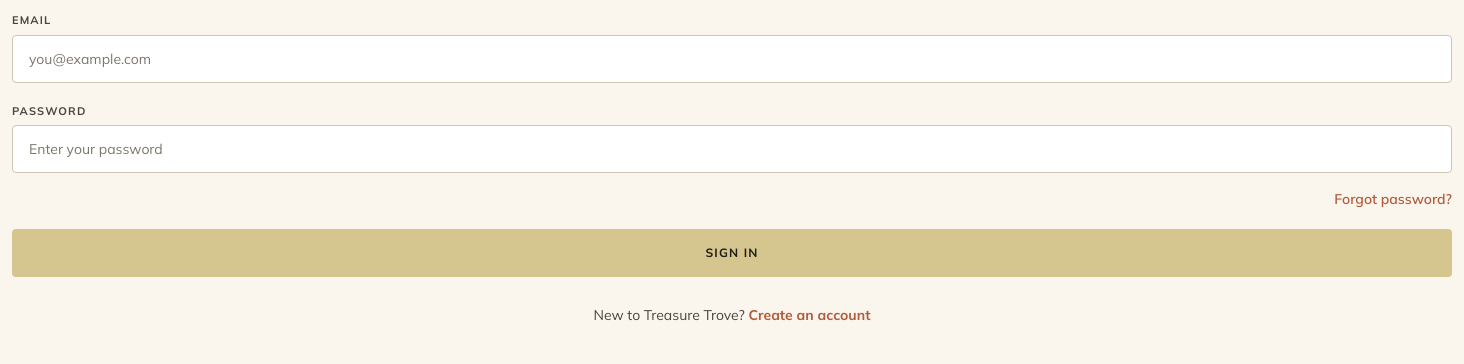
Test case: LoginForm › shows an email format error for an invalid email
The image size is (1464, 364).
Type "not-an-email" into the field with test id "login-email-input".
click(732, 58); type("not-an-email")  # box [12,34,1452,82]
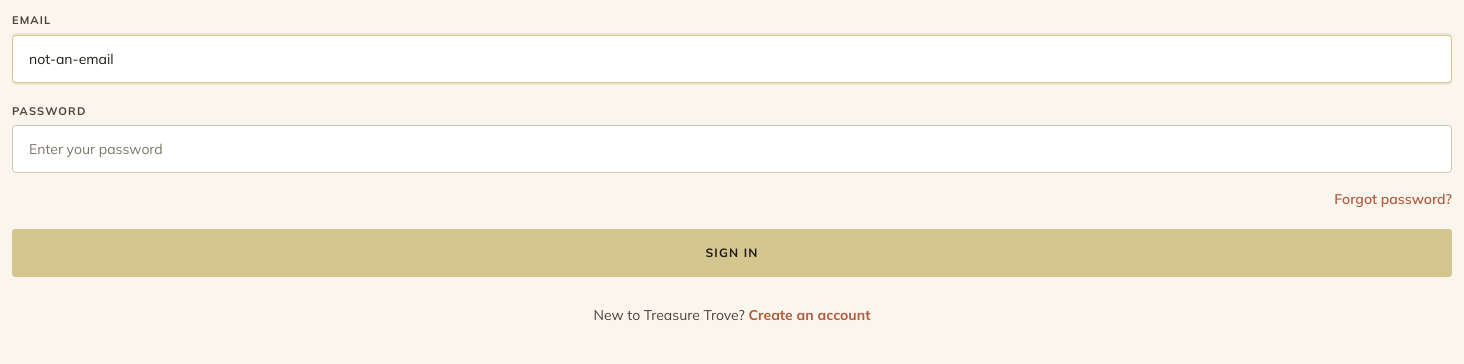
Type "password123" into the password field with test id "login-password-input".
click(732, 149); type("password123")  # box [12,125,1452,173]
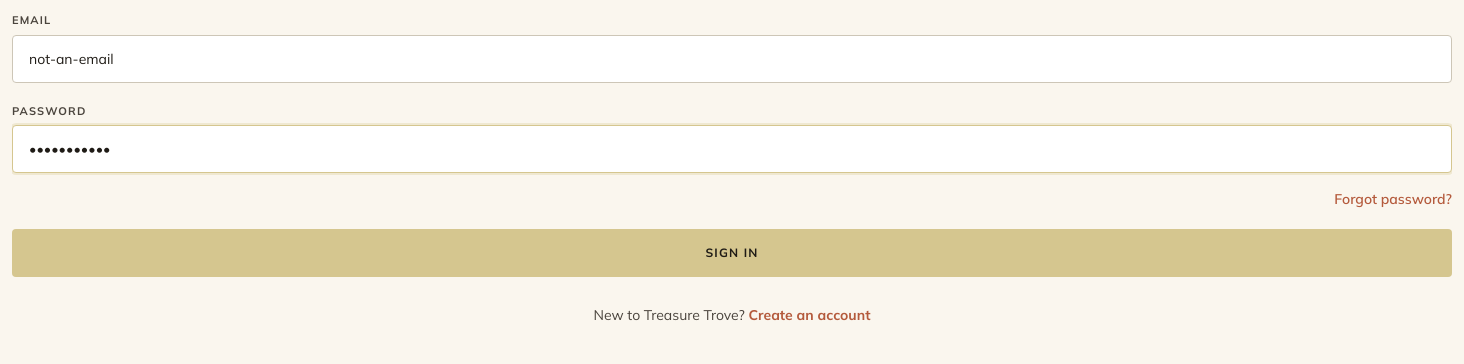
Click the button with test id "login-submit-button".
click(732, 253)  # box [12,229,1452,277]
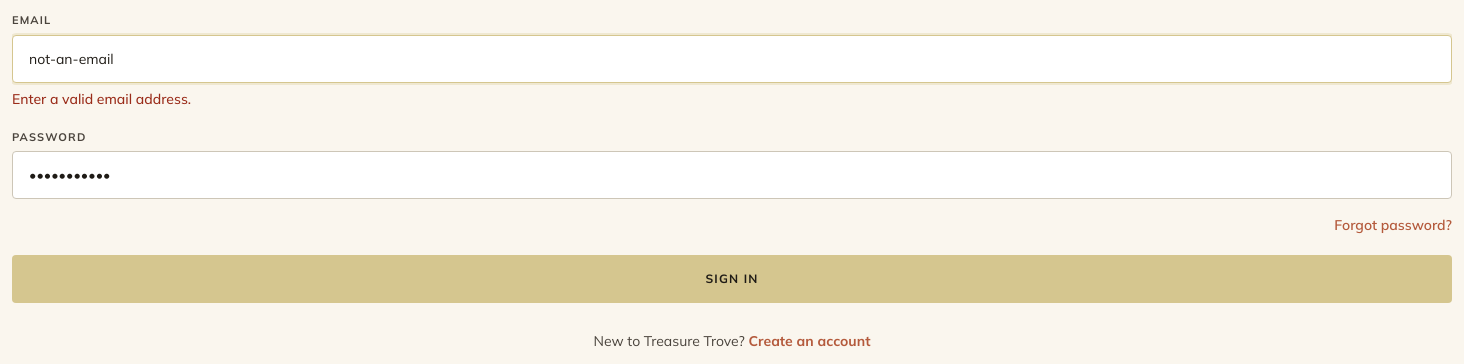
Expected: the text "Enter a valid email address." is shown, [12,90,191,108]
